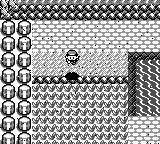captura: (32, 84, 128, 143), (136, 61, 159, 116)
main: (65, 50, 79, 65)
mo: (128, 52, 159, 115)
no-caminable: (1, 20, 32, 143)
salto: (34, 76, 128, 83)
